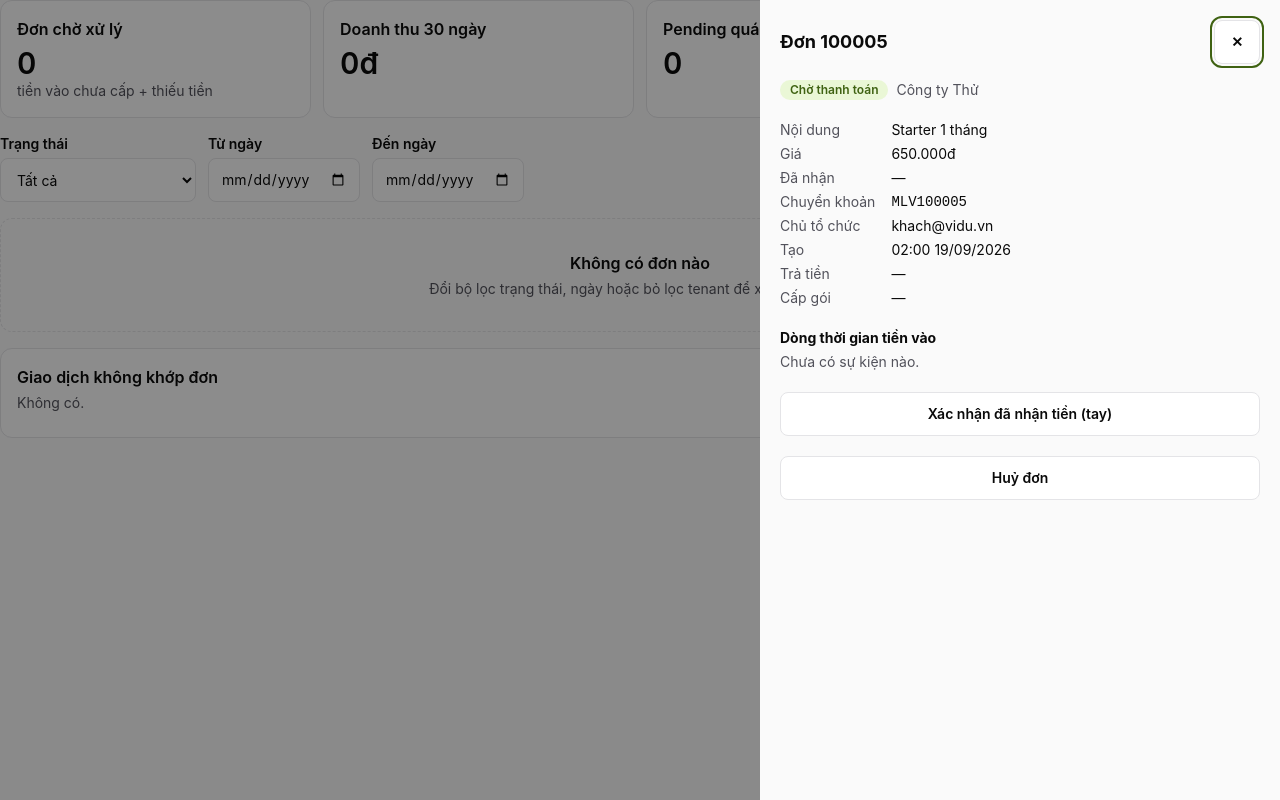
Test case: OrdersPage — lỗi lệnh hiện ở cấp trang › Huỷ đơn thất bại: panel đã đóng lúc lệnh chạy, lỗi hiện thành dải ở trang kèm mã đơn
Click the button "Huỷ đơn".
click(1020, 478)  # box [780,456,1260,500]
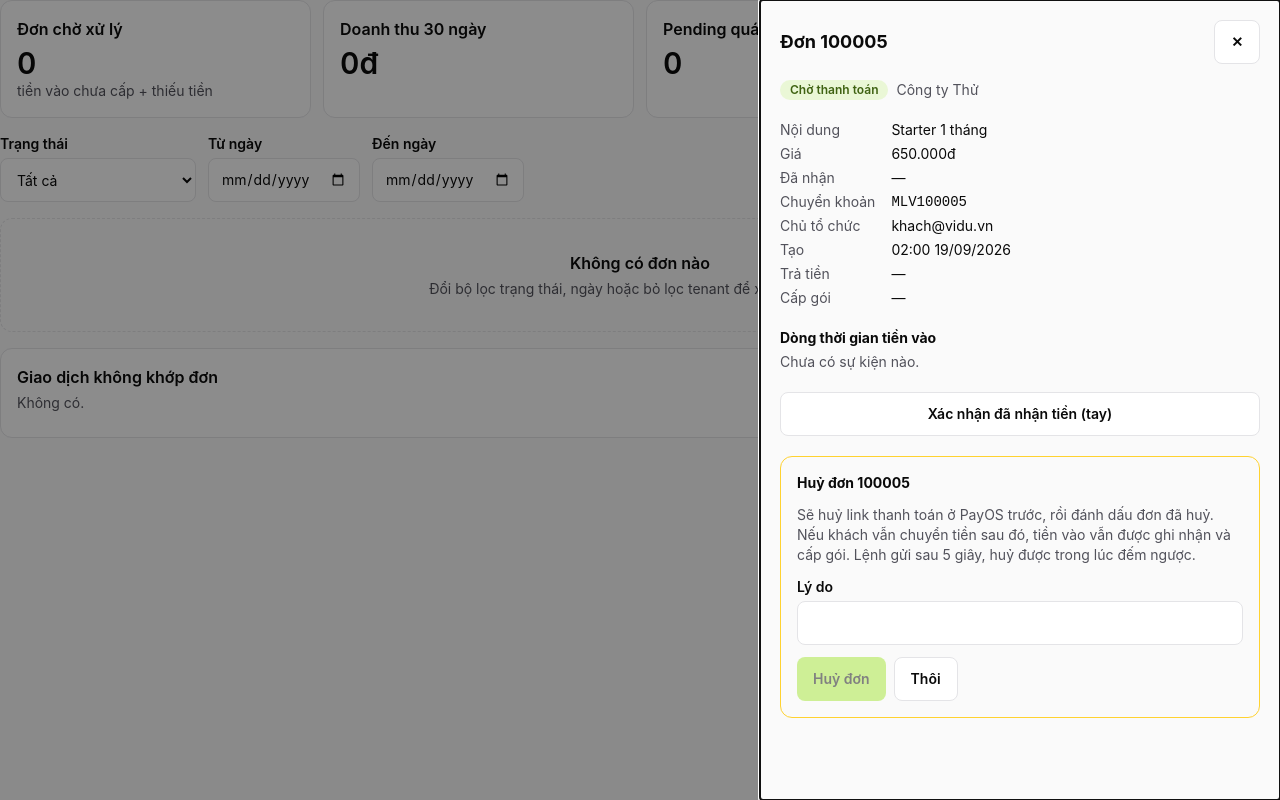
Type "Khách đổi ý" into the field labelled "Lý do".
click(1020, 623); type("Khách đổi ý")  # box [797,601,1243,645]
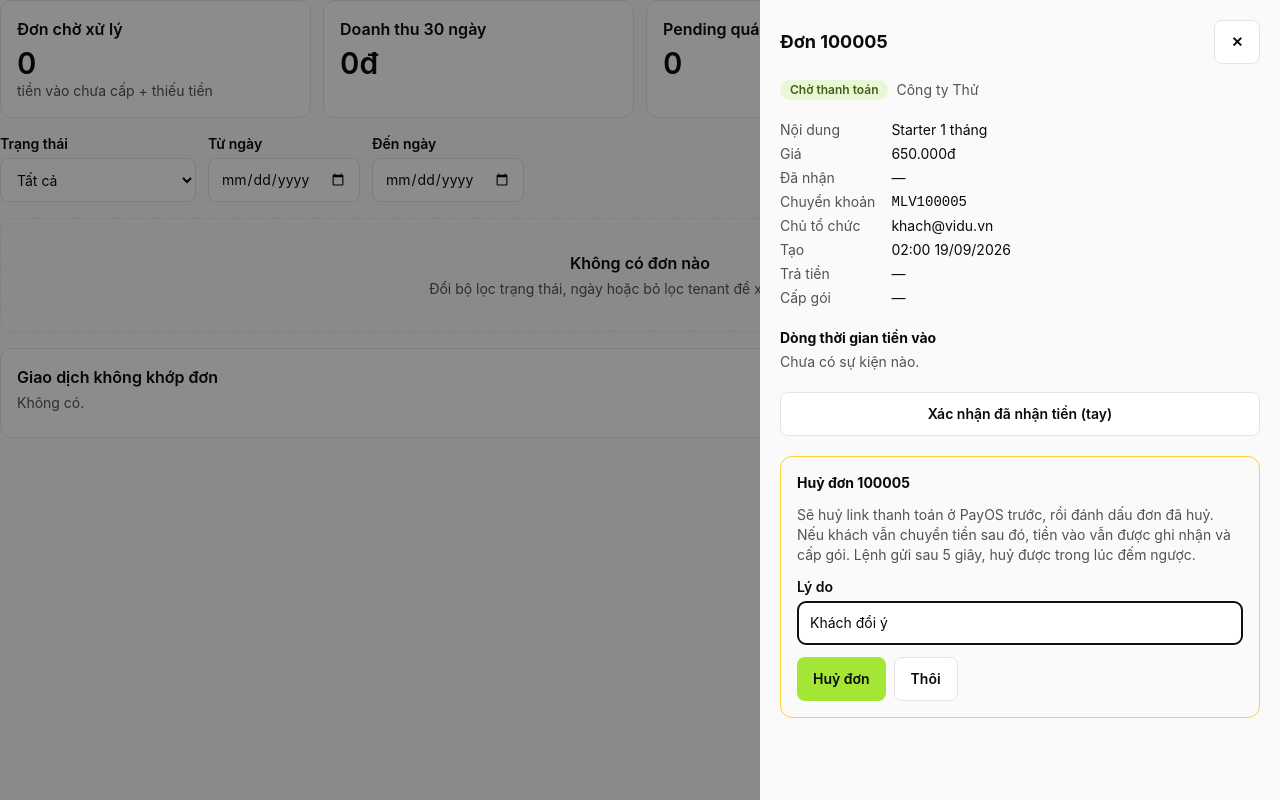
Click the button "Huỷ đơn".
click(841, 679)  # box [797,657,886,701]
Wait 5000 ms
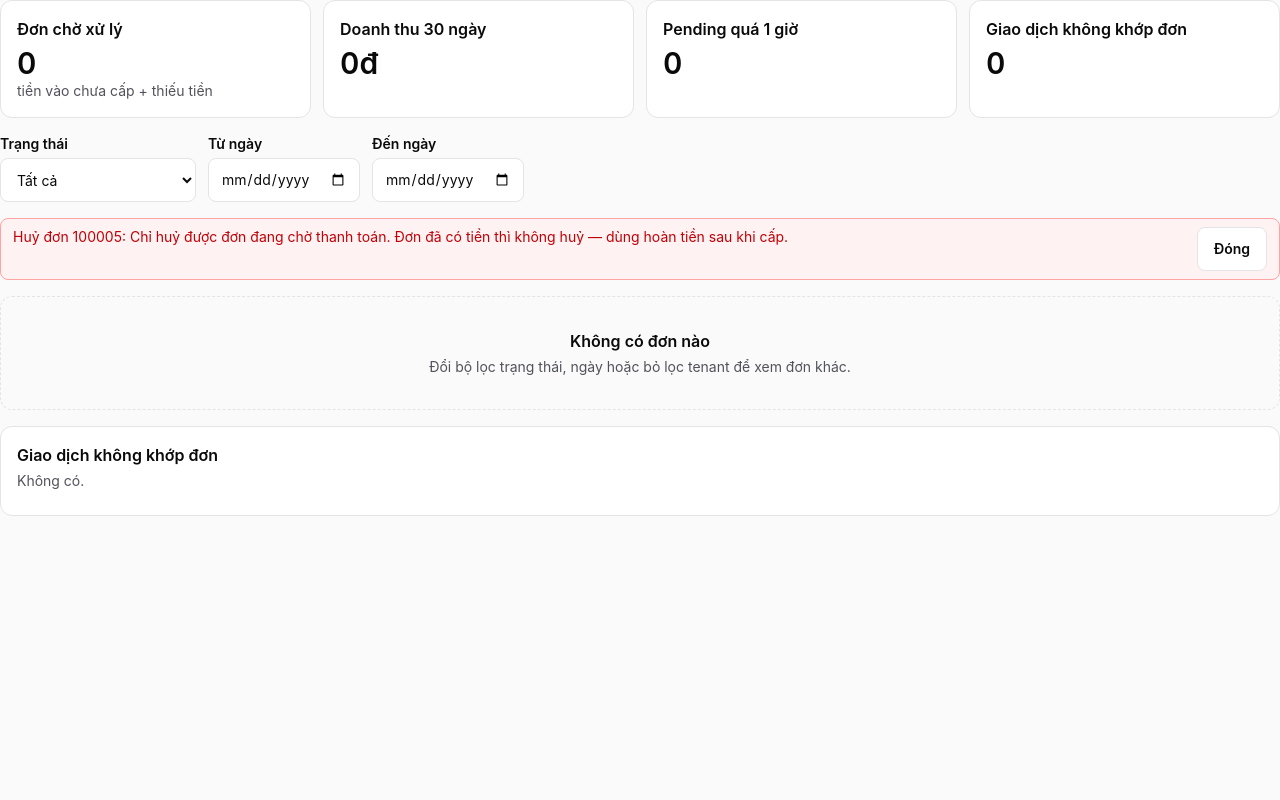
Now the dialog is gone
Now the text "100005" is shown, box [13,228,788,245]
